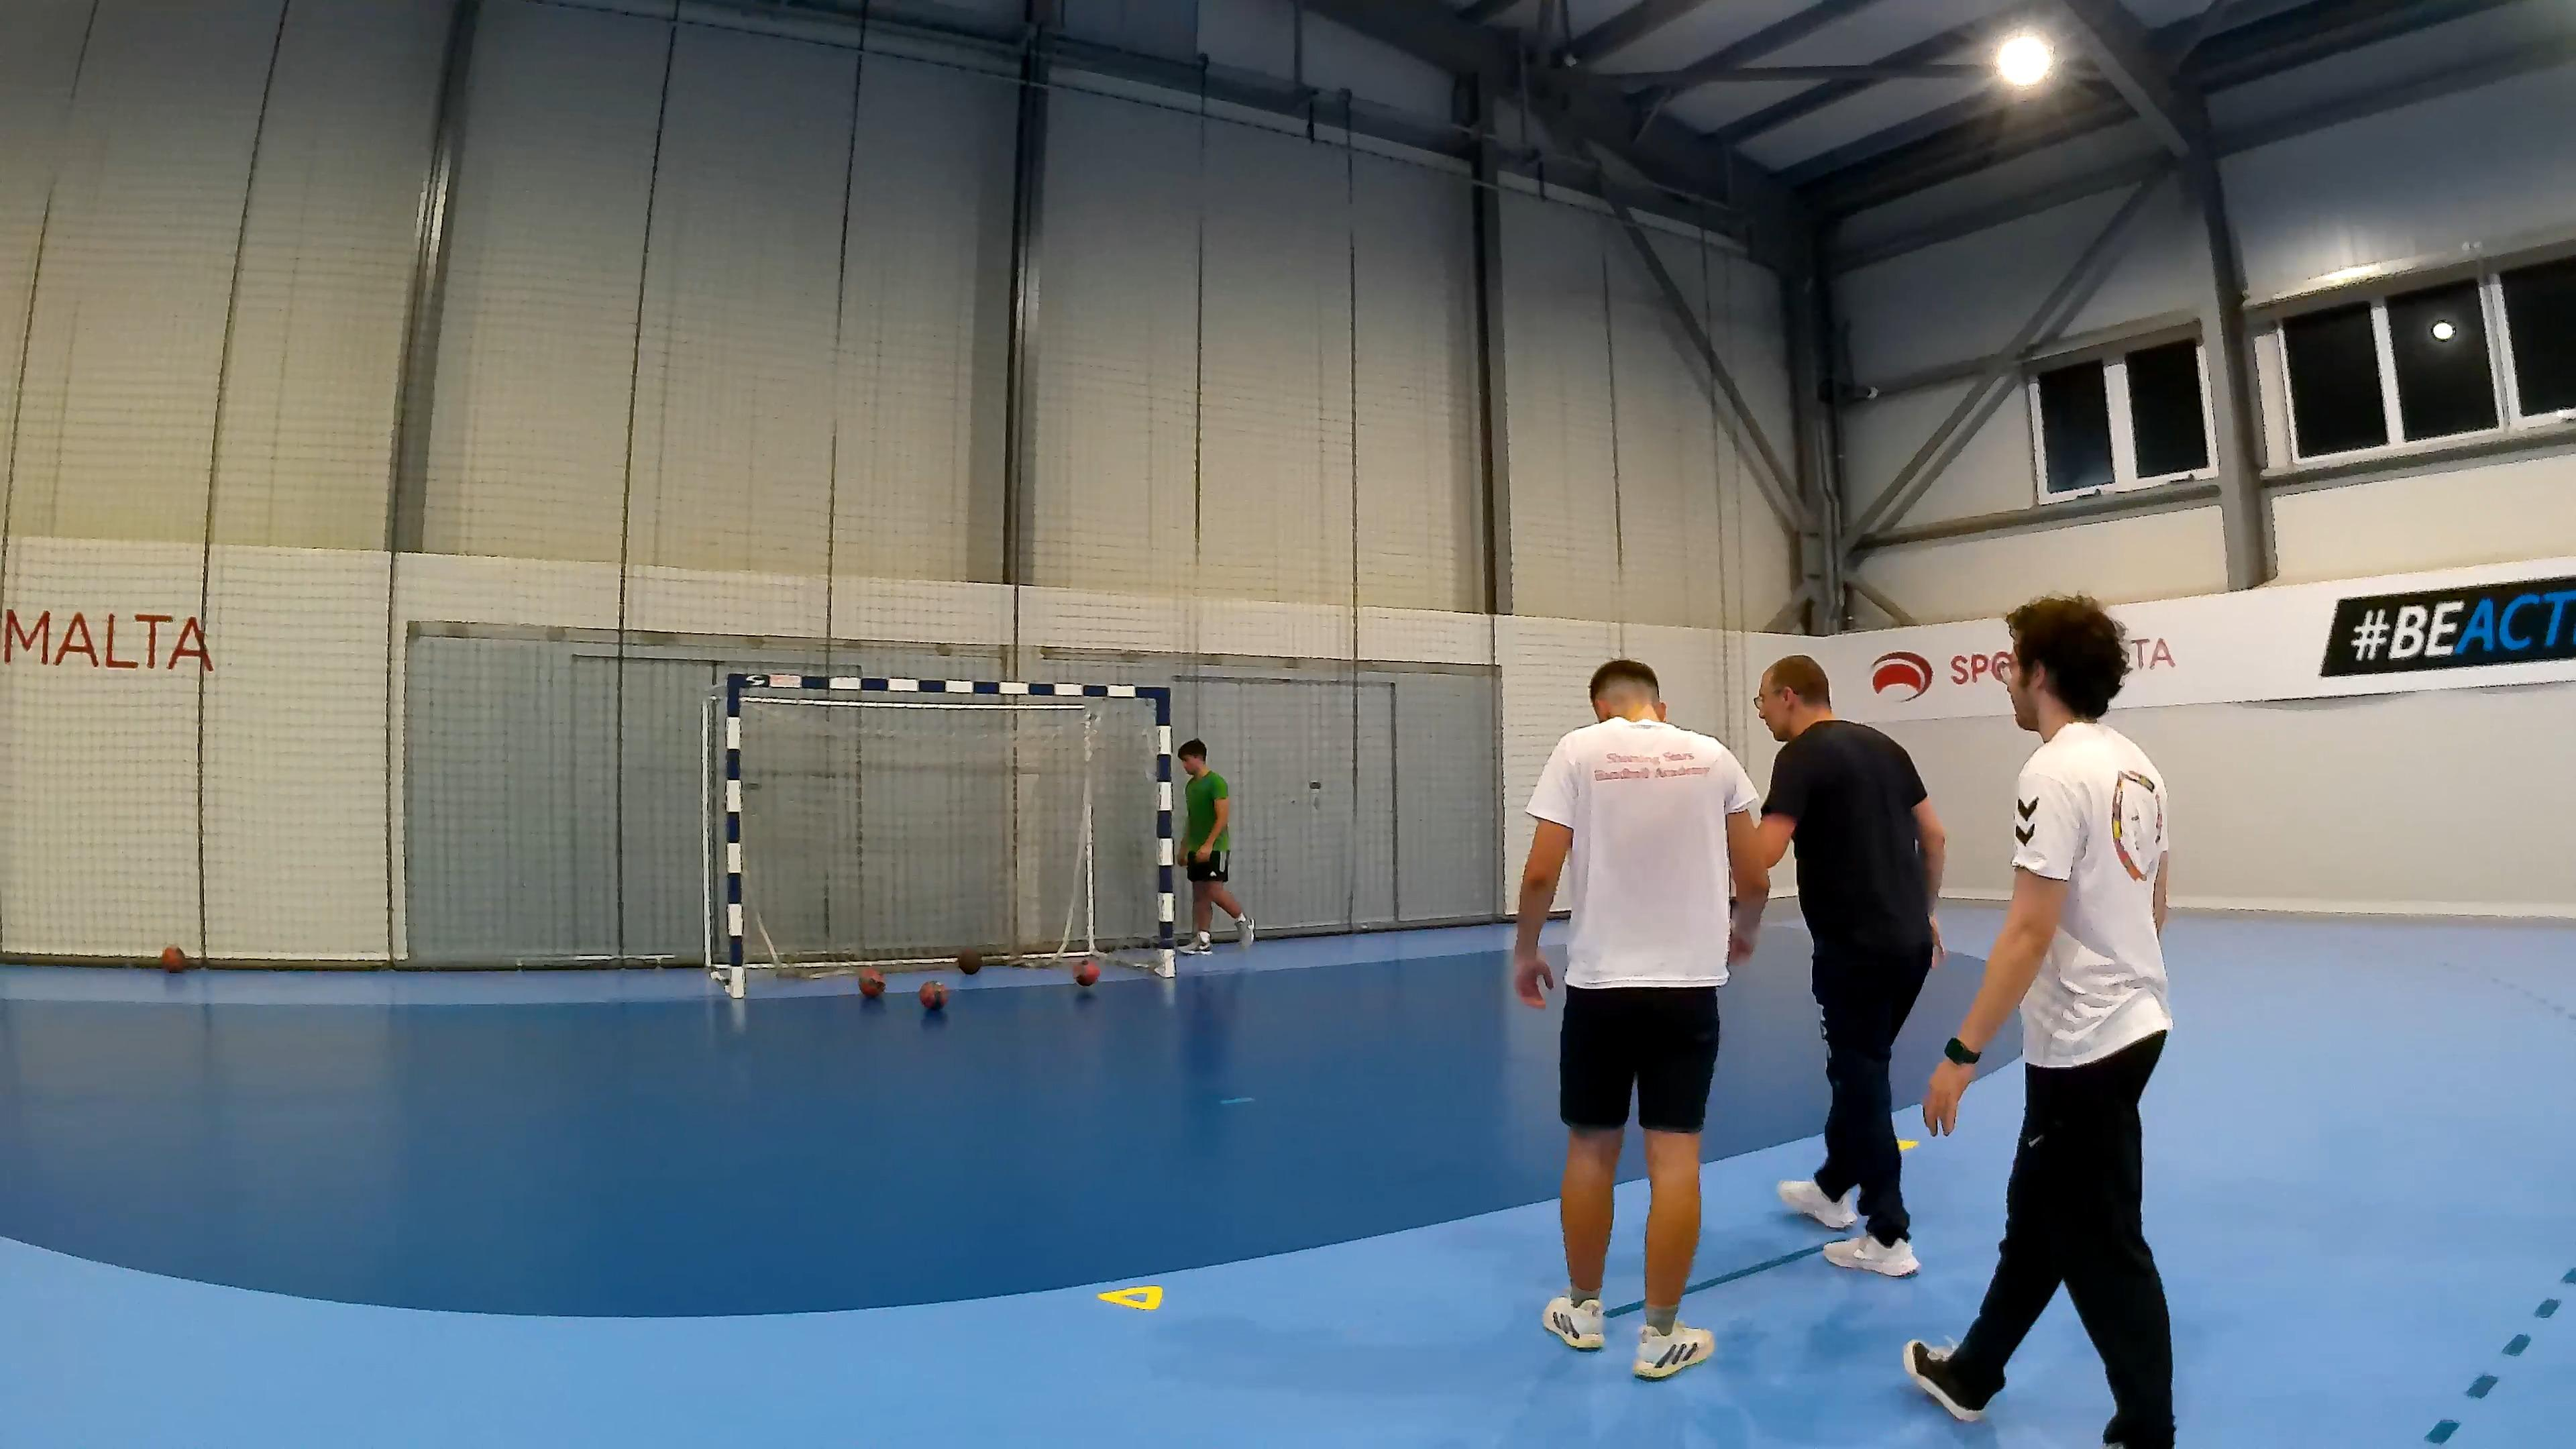handball: (918, 980, 947, 1008), (856, 966, 883, 996), (1074, 957, 1099, 985), (955, 947, 980, 973)
